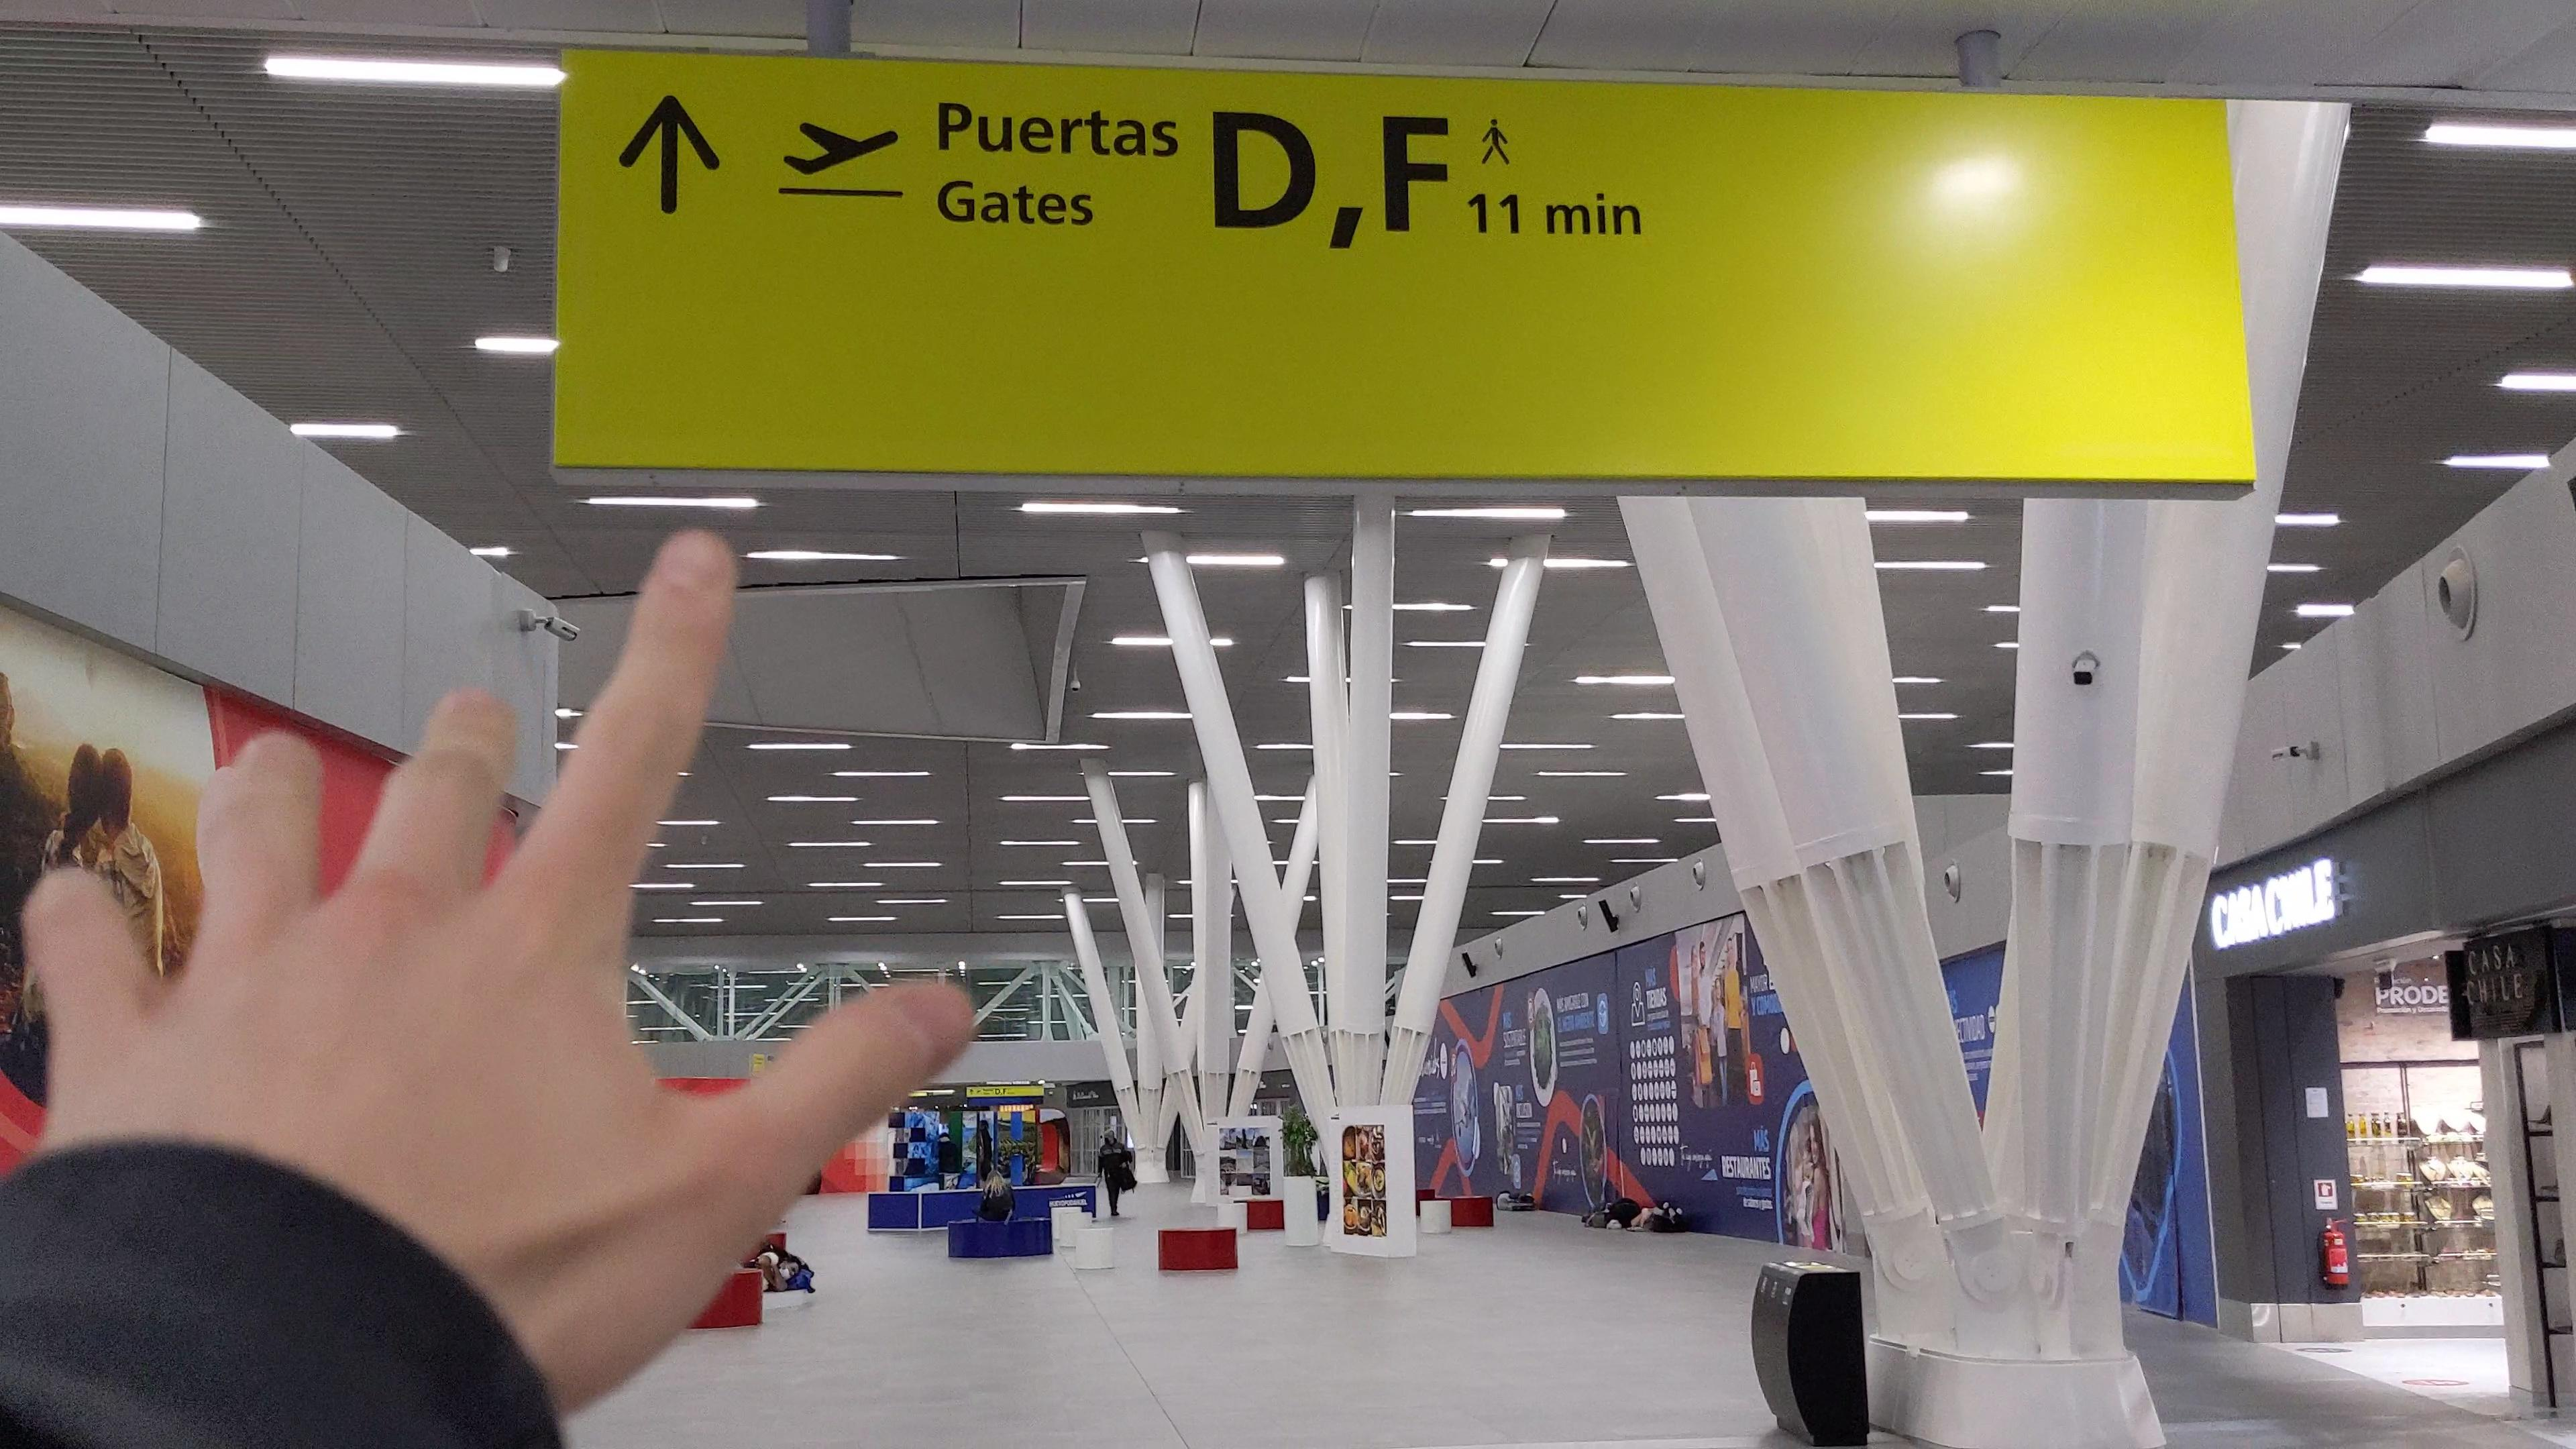airplane symbol: (780, 101, 902, 184)
thin up arrow: (614, 88, 727, 218)
